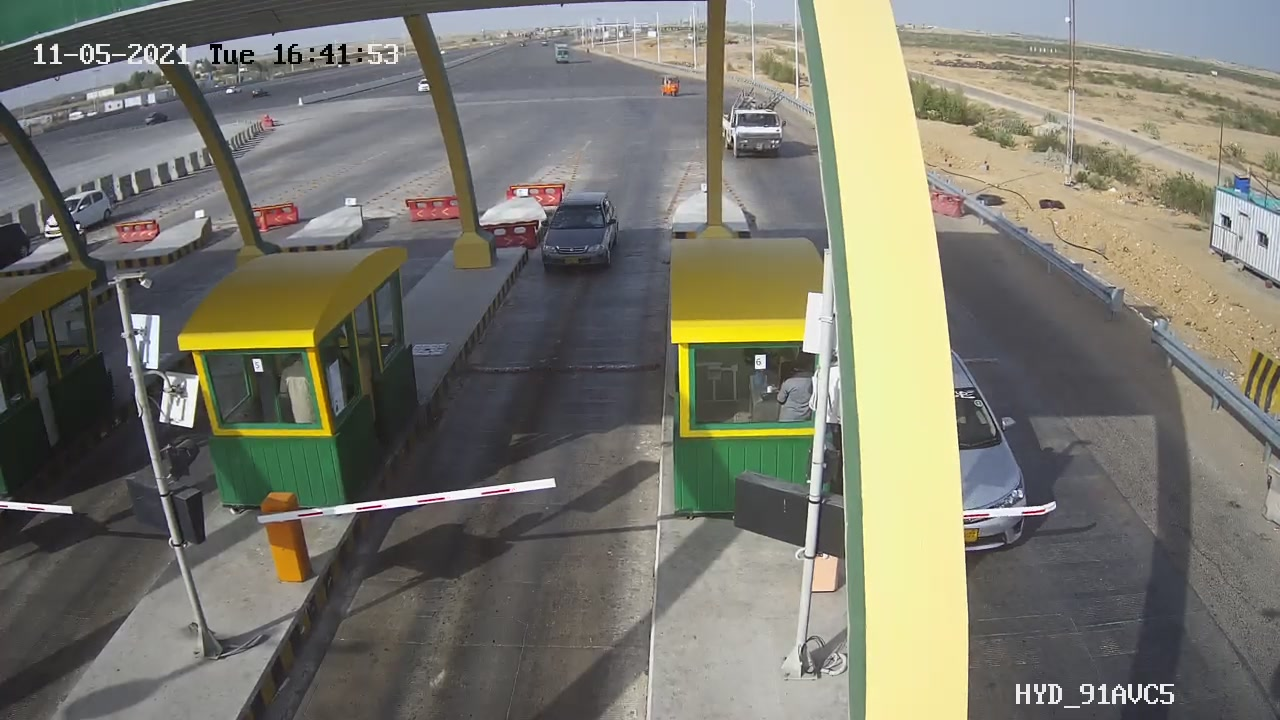F1: (522, 182, 644, 290)
